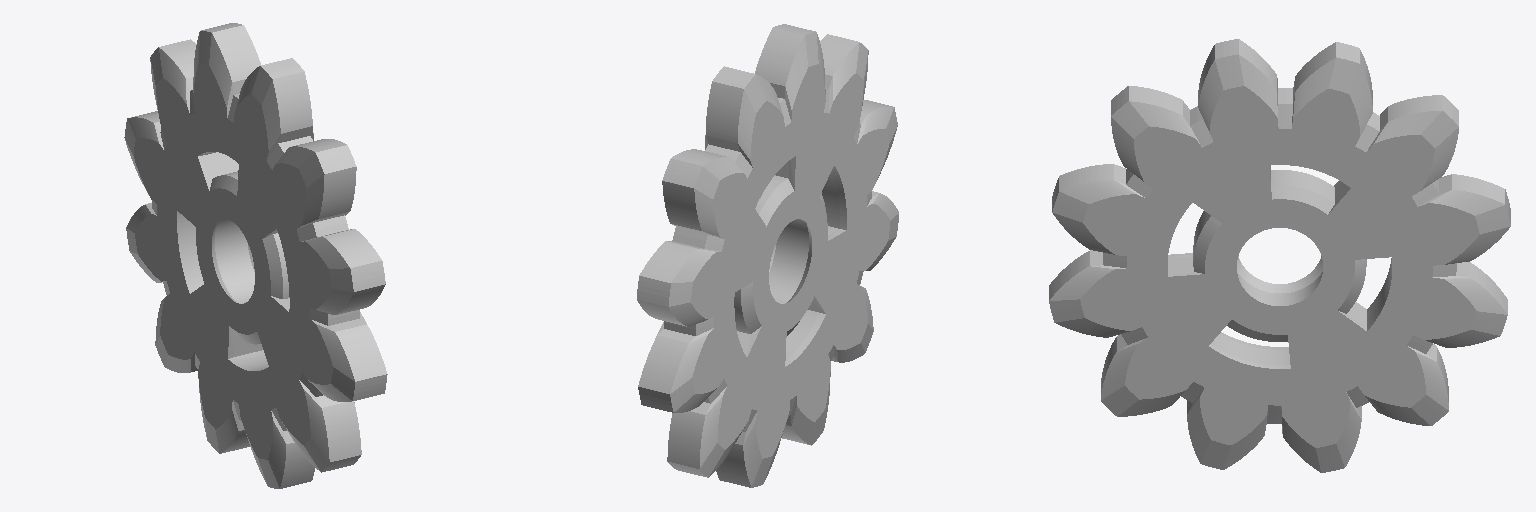
File: gearOut1.obj
3 views of the same model, side by side, from view 1: azimuth 30°, elevation 25°; view 2: azimuth 150°, elevation 25°; view 3: azimuth 270°, elevation 25° (orthographic).
Bounding box in the file's own units: 0.3272 × 2.89 × 2.89.